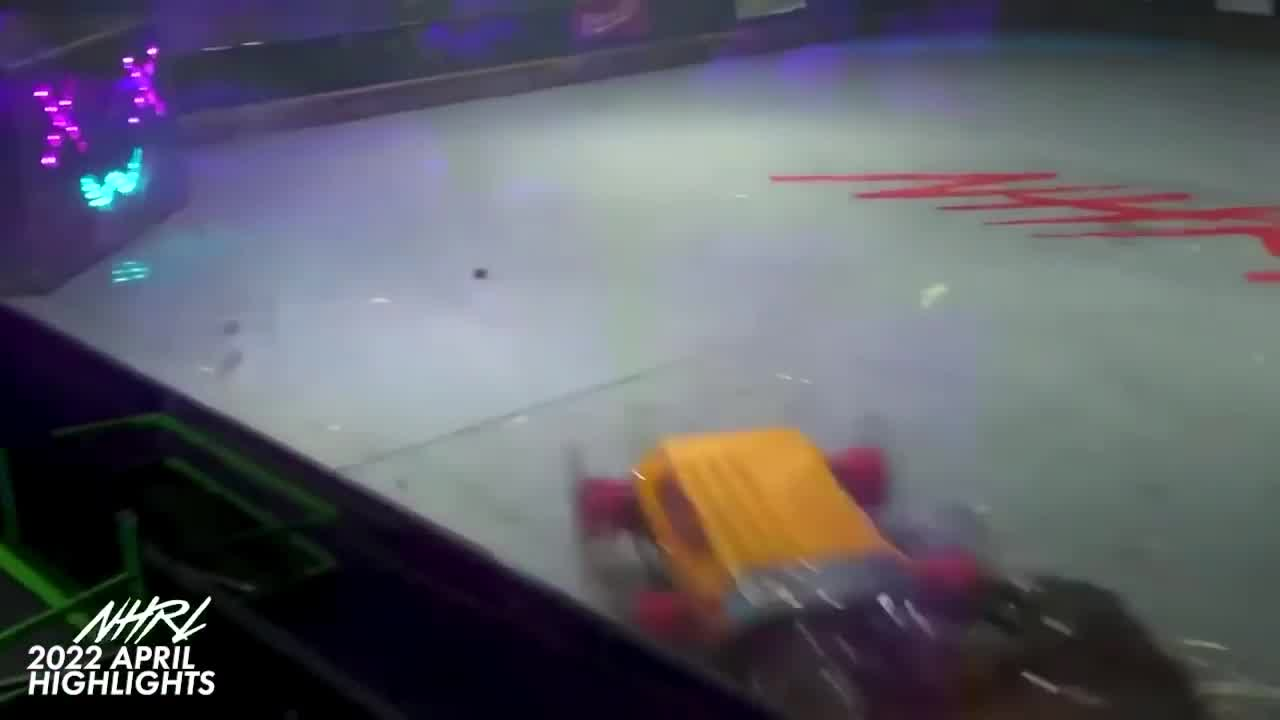combatbot: (573, 430, 978, 604), (728, 573, 1211, 718)
housebot: (0, 7, 195, 297)
